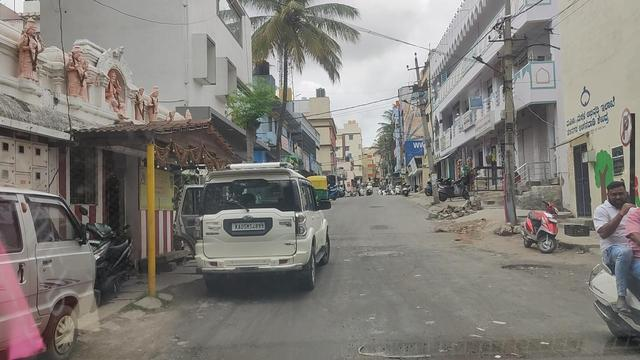RoadDamages: (508, 253, 556, 277), (356, 242, 407, 264)
